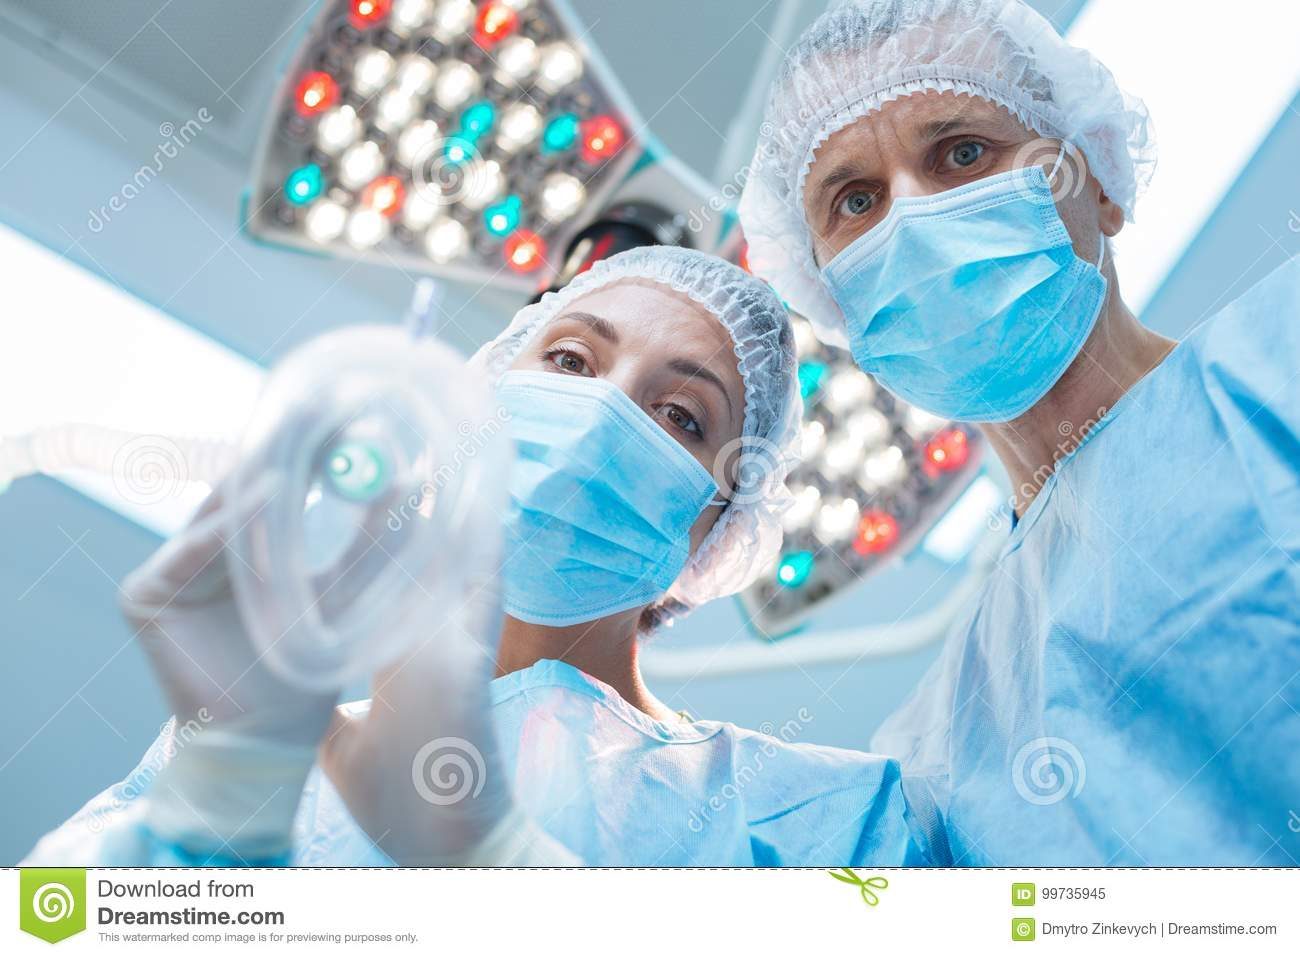mask: (460, 369, 706, 648), (810, 185, 1101, 407)
